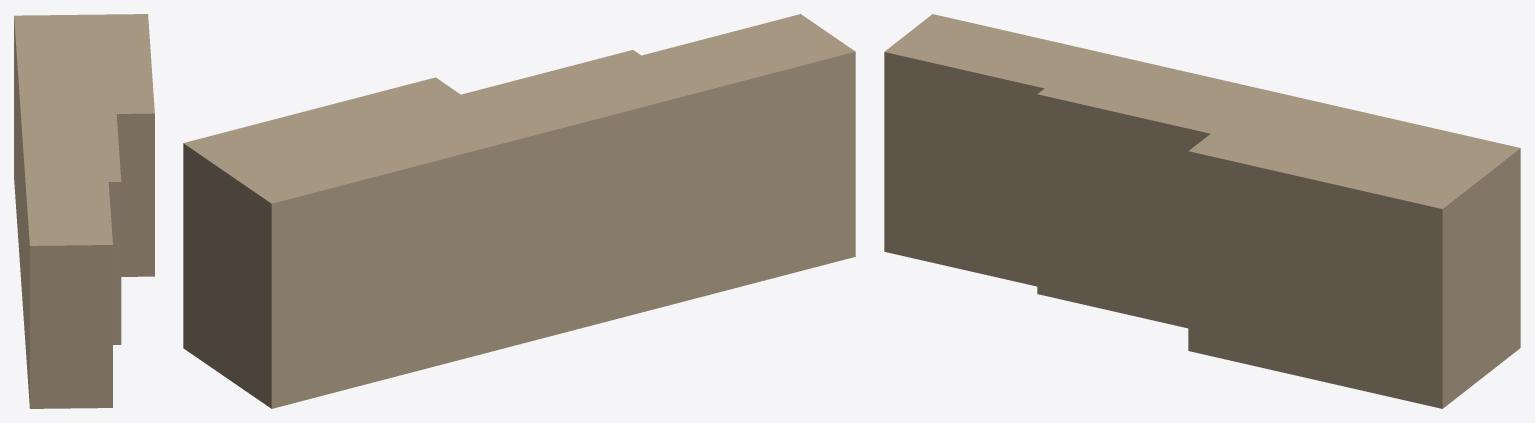
File: bld_101374640.dae
3 renders of one model, left to right at view 1: azimuth 30°, elevation 25°; view 2: azimuth 150°, elevation 25°; view 3: azimuth 270°, elevation 25°, orthographic. The views are drawn at different scales.
Parts seen in each view (by area): view 1: bld_101374640; view 2: bld_101374640; view 3: bld_101374640.
Part boxes in pixels (x1,y1,x2,y2): bld_101374640: [14, 14, 154, 408]; bld_101374640: [183, 14, 855, 408]; bld_101374640: [884, 14, 1520, 408].
Bounding box in the file's own units: 16.75 × 23.09 × 8.
